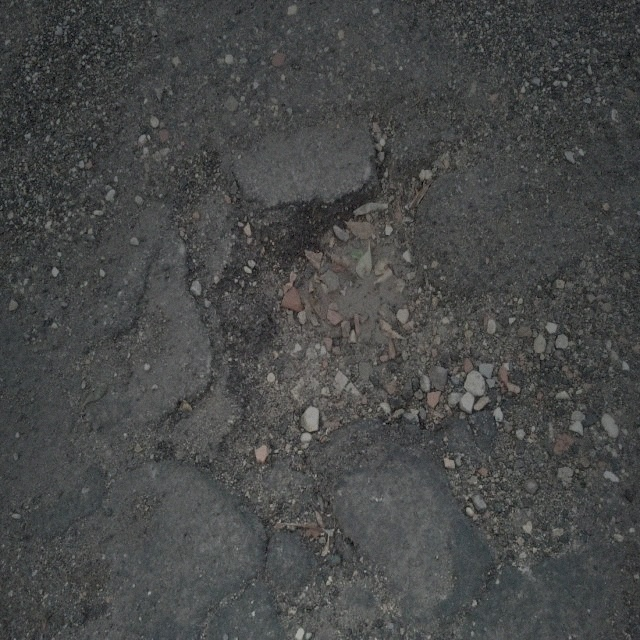pothole: (161, 154, 513, 542)
